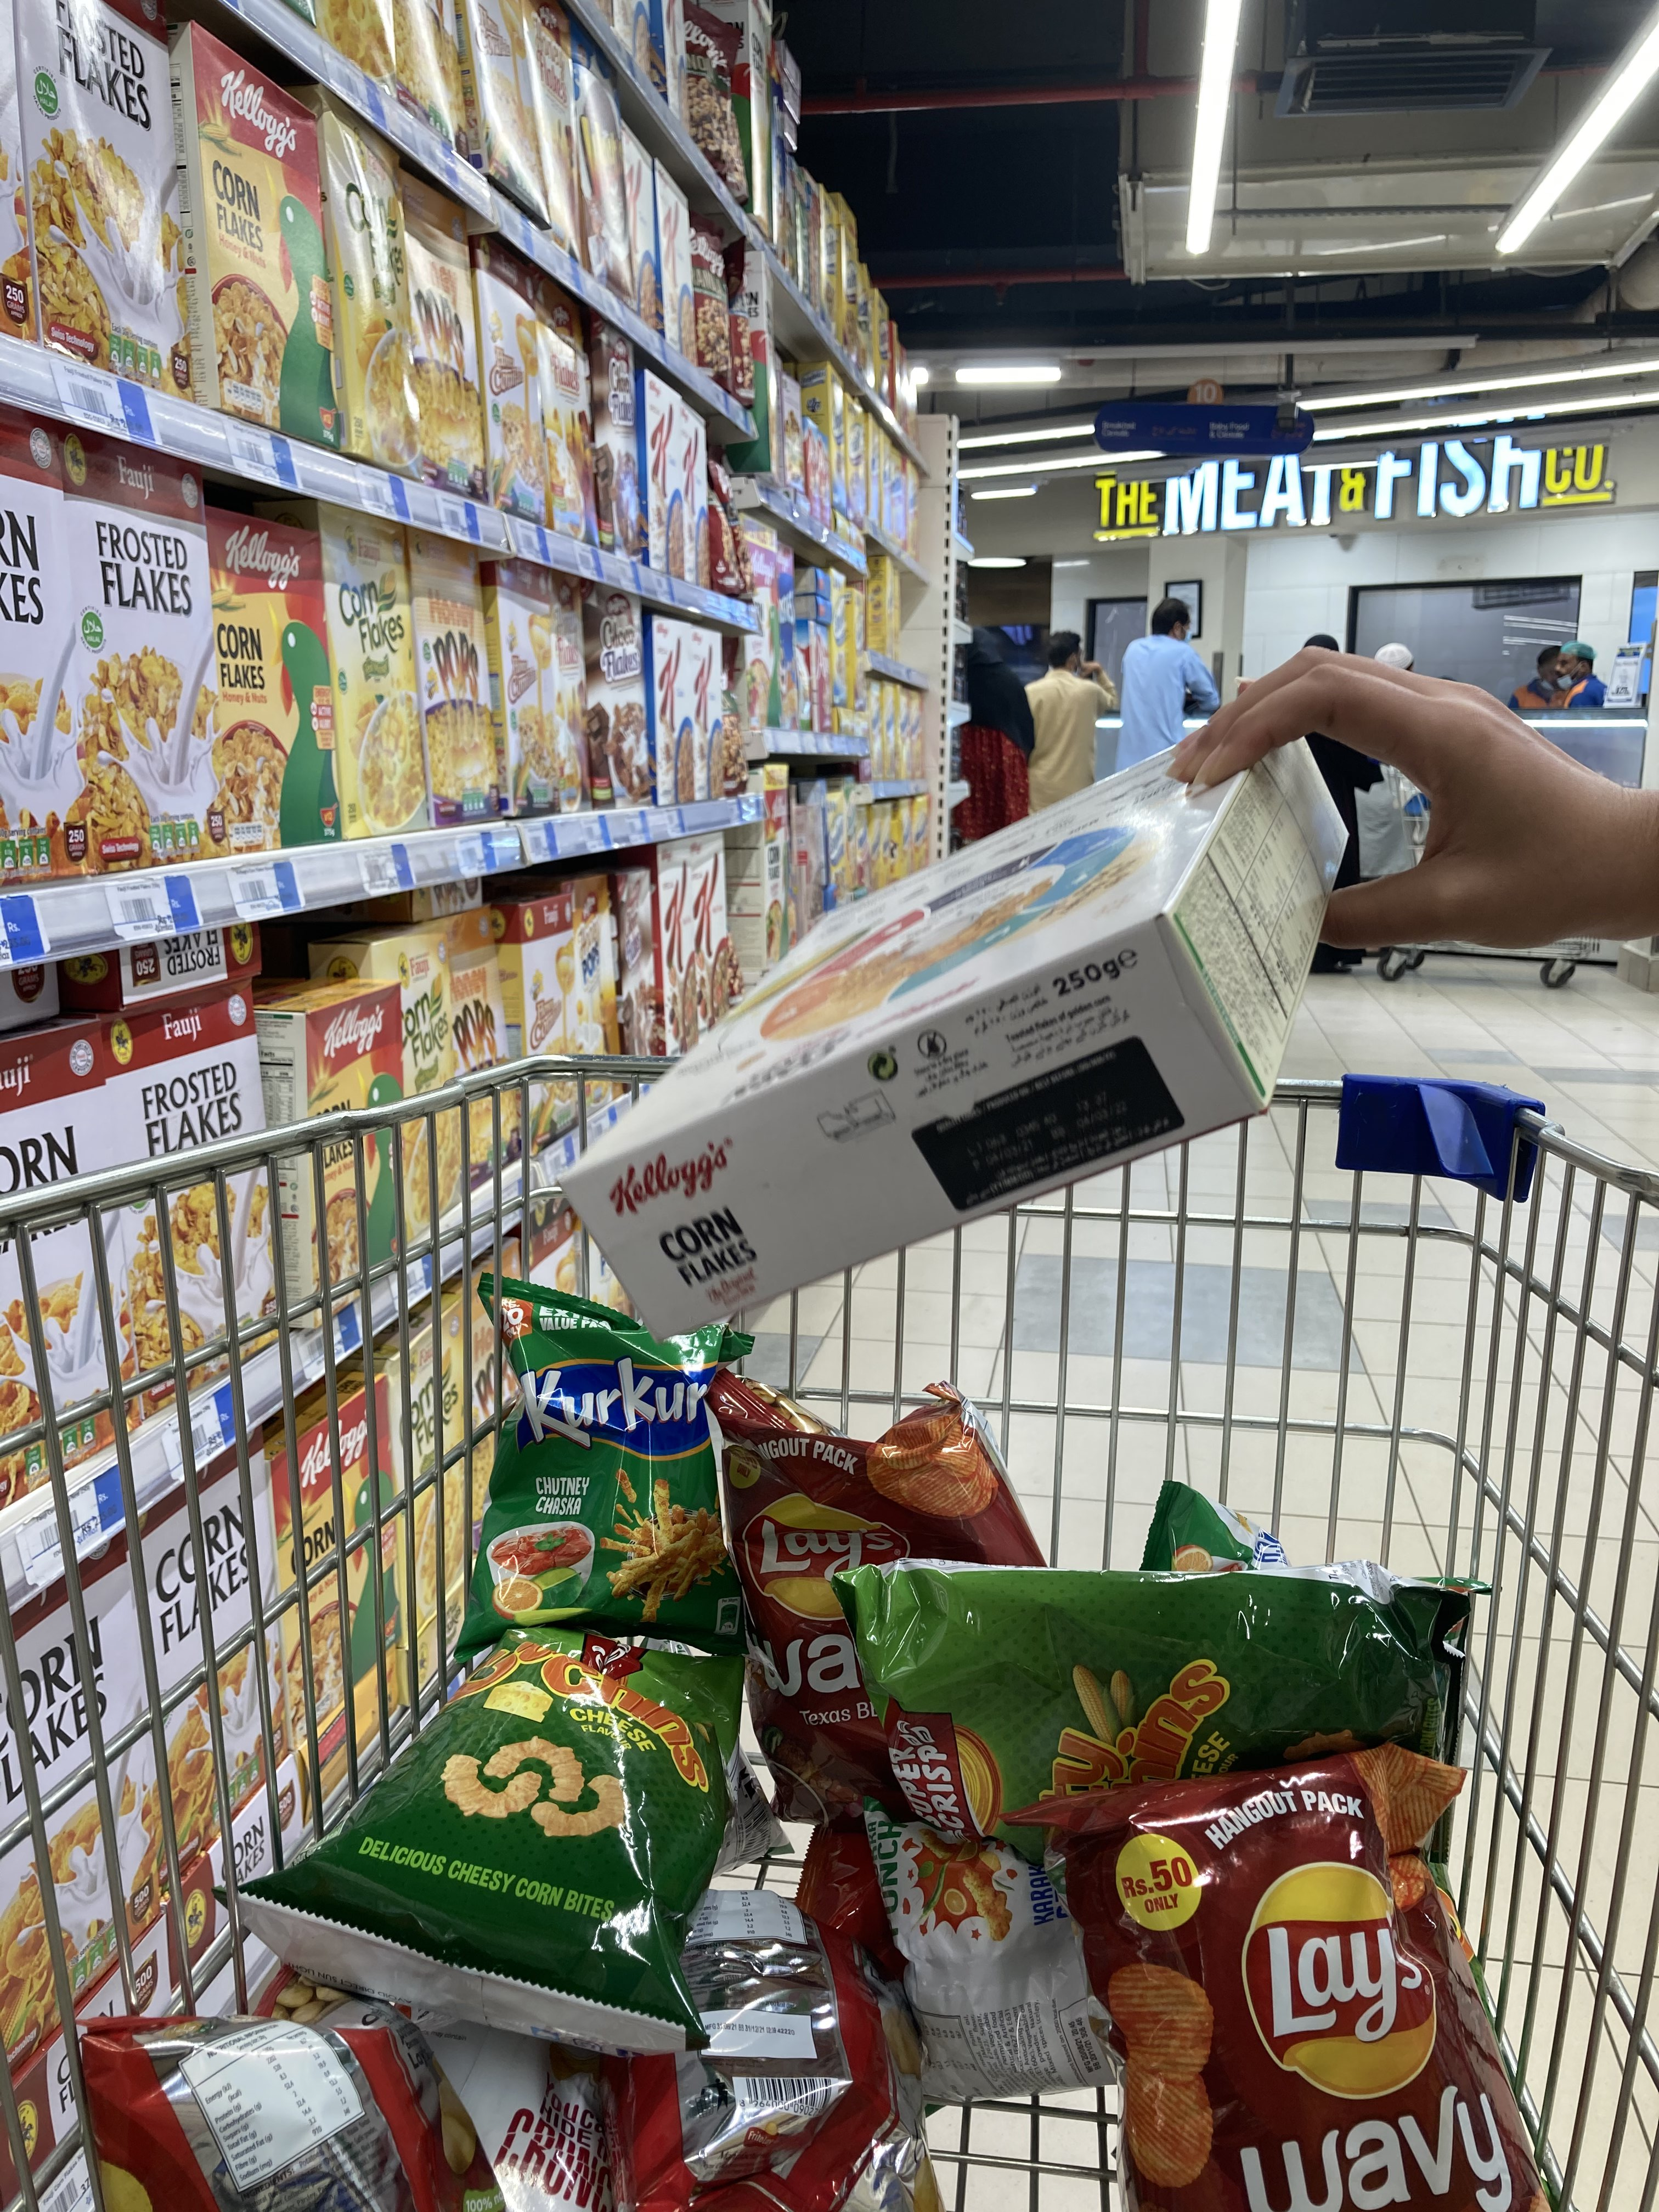Kellogg's Corn Flakes: (558, 725, 1363, 1318)
